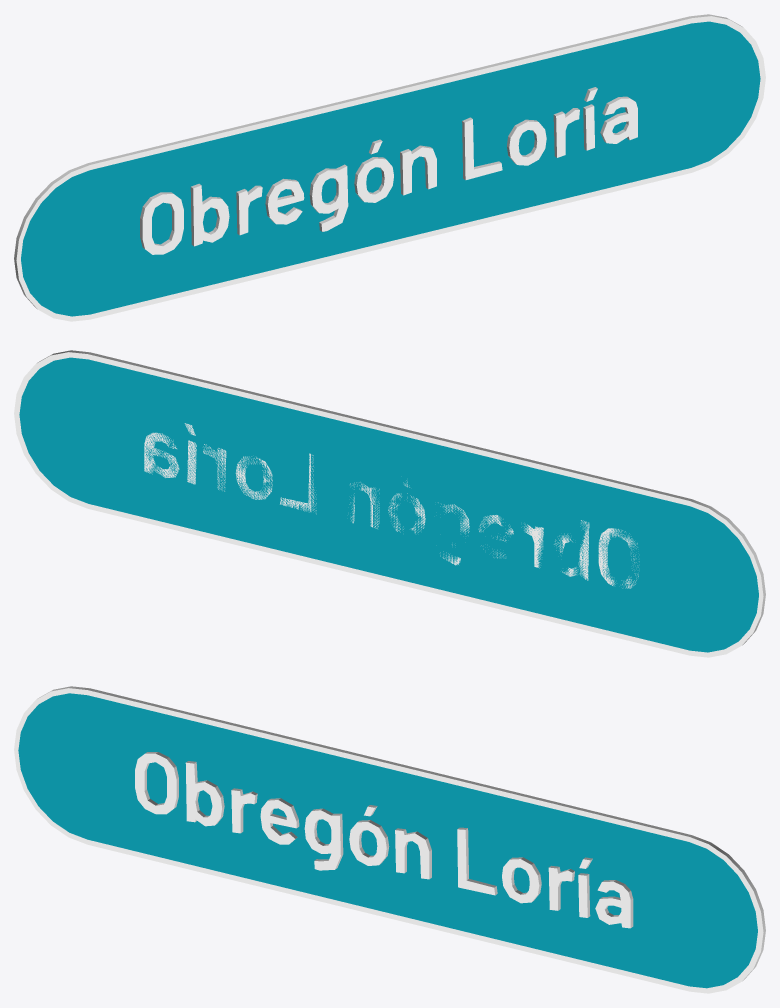
The model's file is obregonloriaOBJ.obj.
3 renders of one model, top to bottom at view 1: azimuth 30°, elevation 25°; view 2: azimuth 150°, elevation 25°; view 3: azimuth 330°, elevation 25°, orthographic.
Visible parts, largest first — view 1: Entorno_89_Entorno_1__24696_, Texto_de_modelo_Texto_de_modelo_10__24684_, Entorno_90_Entorno_1__24708_; view 2: Entorno_89_Entorno_1__24696_, Entorno_90_Entorno_1__24708_, Texto_de_modelo_Texto_de_modelo_10__24684_; view 3: Entorno_89_Entorno_1__24696_, Texto_de_modelo_Texto_de_modelo_10__24684_, Entorno_90_Entorno_1__24708_.
Part boxes in pixels (left/top/right/bottom): Entorno_89_Entorno_1__24696_: left=21, top=21, right=760, bottom=316; Texto_de_modelo_Texto_de_modelo_10__24684_: left=140, top=87, right=637, bottom=254; Entorno_90_Entorno_1__24708_: left=14, top=14, right=765, bottom=321; Entorno_89_Entorno_1__24696_: left=19, top=357, right=758, bottom=652; Entorno_90_Entorno_1__24708_: left=14, top=350, right=765, bottom=657; Texto_de_modelo_Texto_de_modelo_10__24684_: left=144, top=423, right=639, bottom=588; Entorno_89_Entorno_1__24696_: left=18, top=693, right=757, bottom=988; Texto_de_modelo_Texto_de_modelo_10__24684_: left=135, top=752, right=633, bottom=928; Entorno_90_Entorno_1__24708_: left=14, top=686, right=765, bottom=993.
Size of the model in its own units: 52.69 by 10.39 by 0.6.
